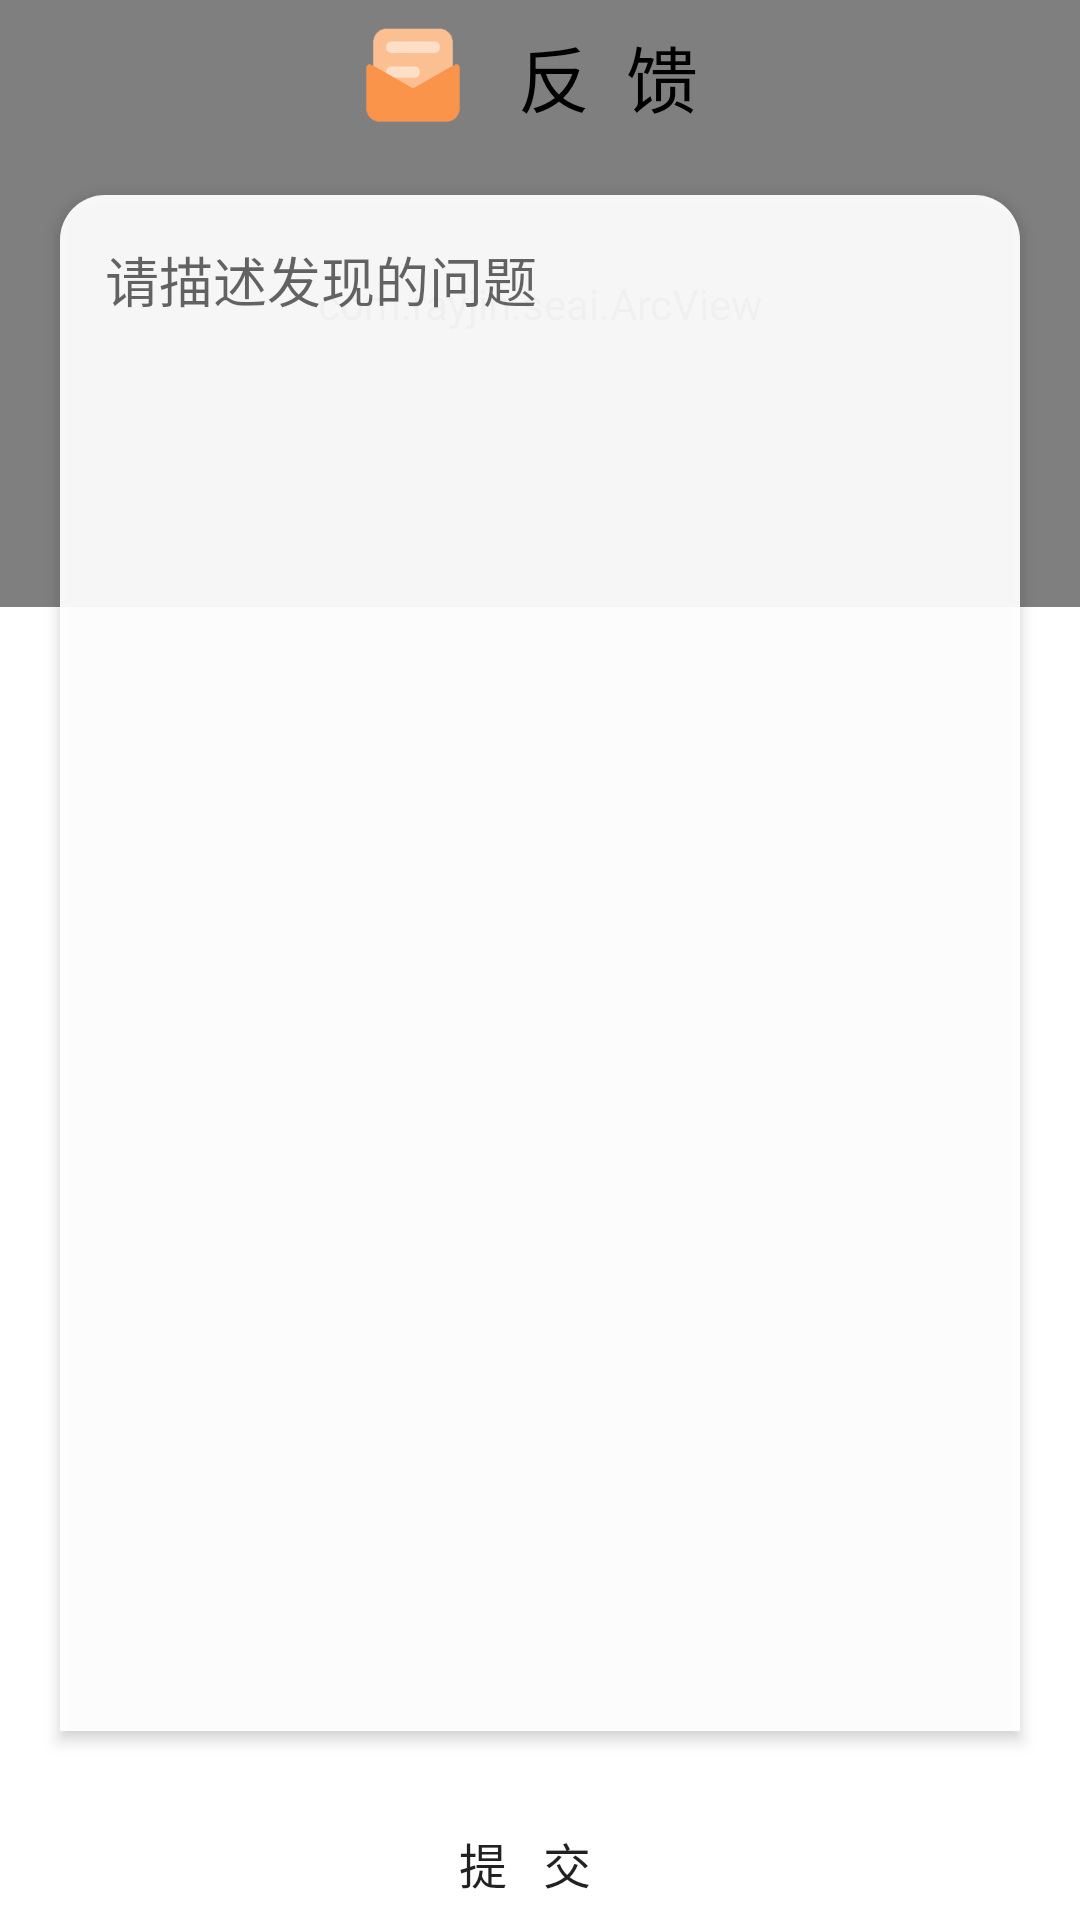

Screen size 1080 × 1920. Icon name, then its center in pixels as [x,y]:
feedback: [413,75]
